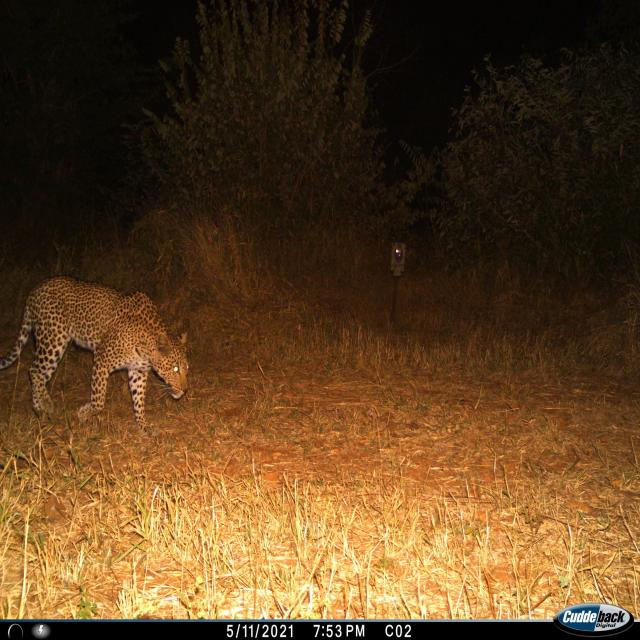Leopard: (10, 280, 197, 439)
